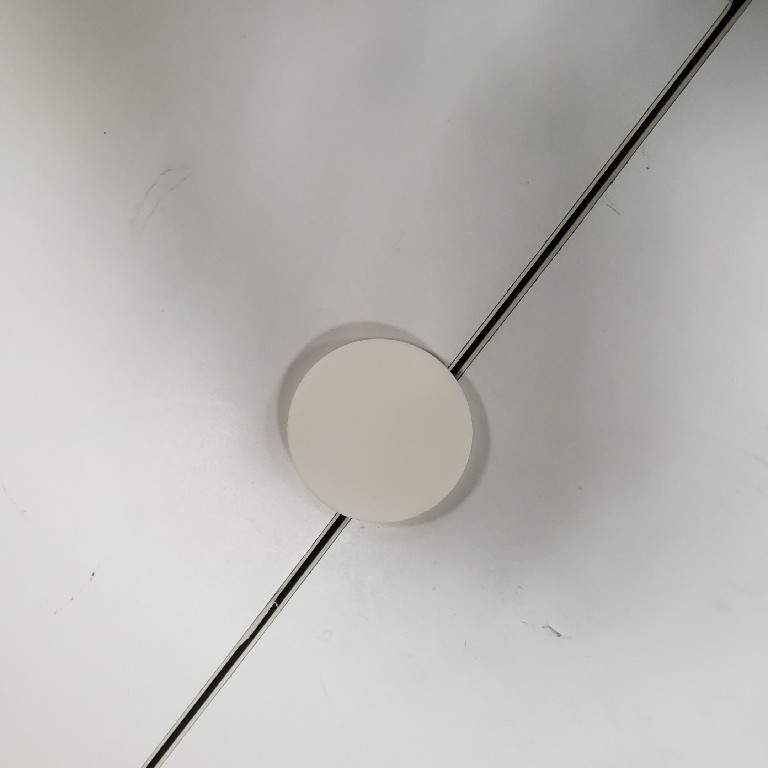ceramics: (282, 335, 480, 528)
